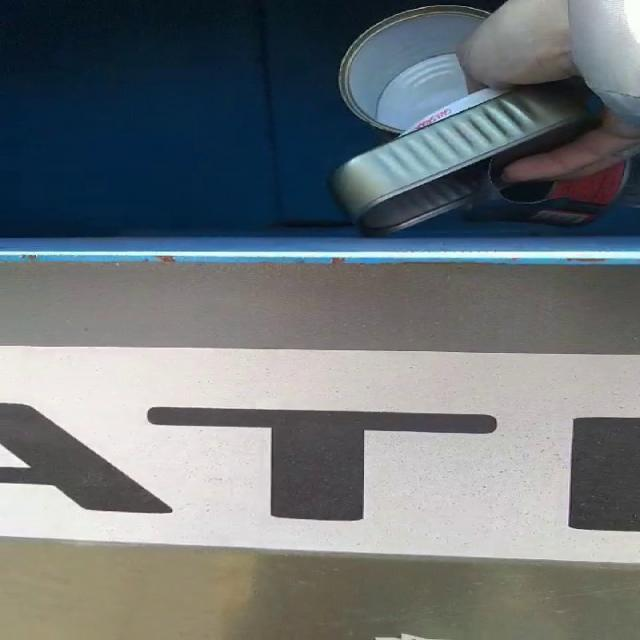Bin: (1, 0, 640, 371), (1, 539, 640, 640)
Metal: (332, 6, 627, 235)
